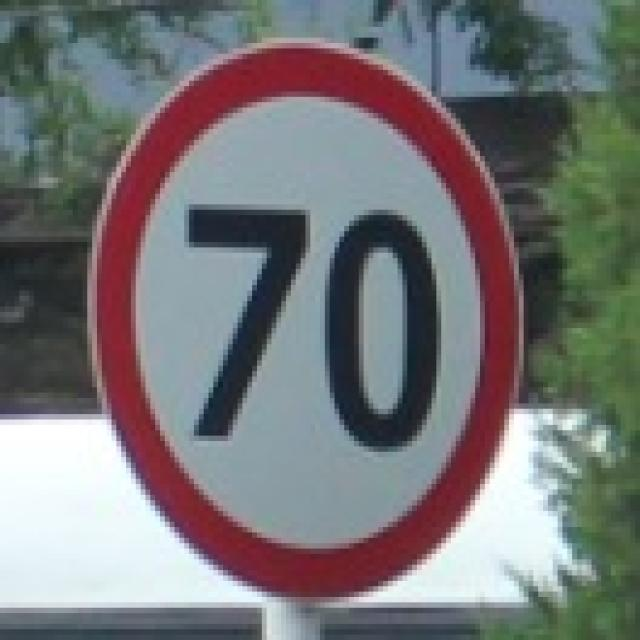Speed Limit -70-: (183, 202, 441, 448)
